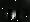person: (6, 10, 12, 22), (10, 10, 16, 20)
